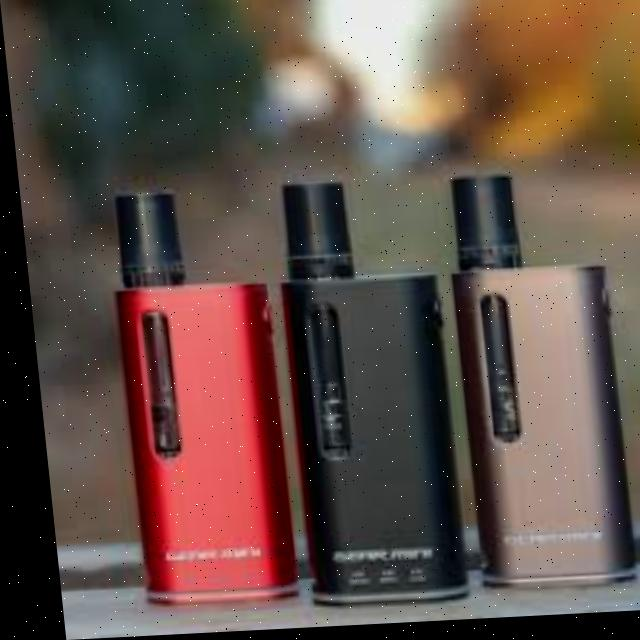vape: (263, 181, 463, 616), (104, 186, 291, 604), (443, 174, 623, 598)
